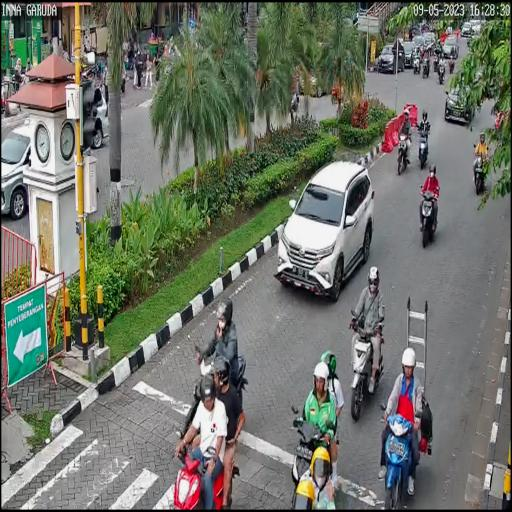mobil: (274, 152, 382, 302)
motor: (181, 340, 251, 450), (381, 404, 432, 512), (174, 426, 238, 512), (348, 305, 383, 424), (417, 183, 439, 247), (471, 150, 490, 202), (416, 120, 434, 170), (394, 125, 411, 173)
